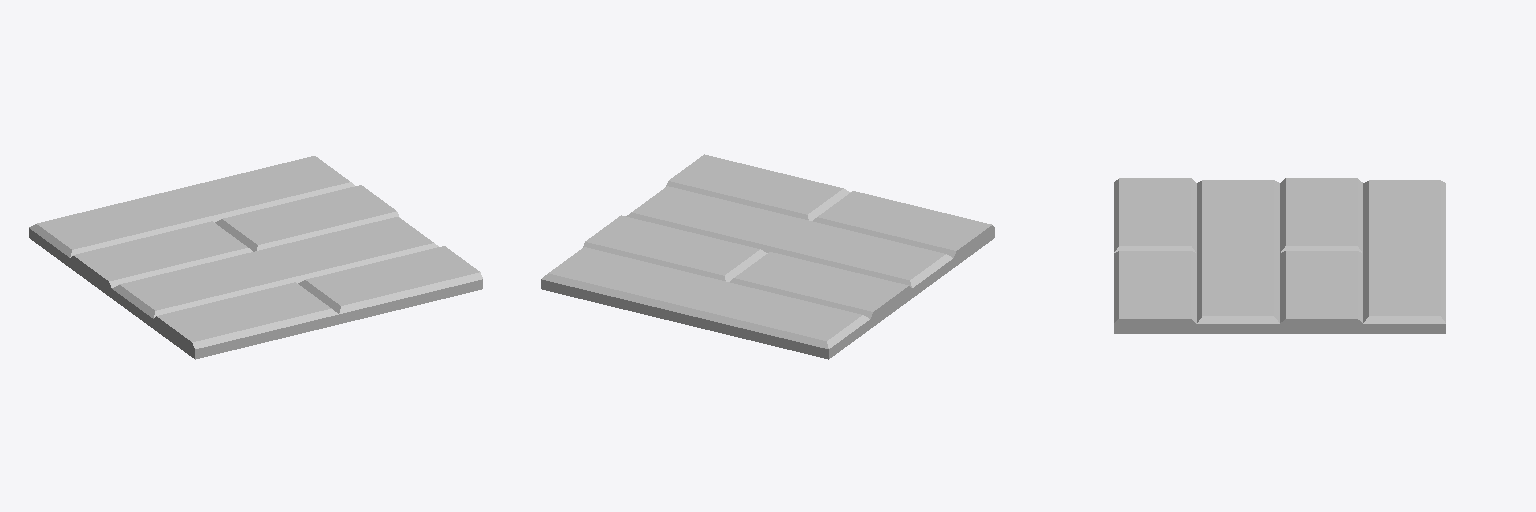
Rendered from floorDecoration_wood.obj.
The picture shows the model from 3 angles: view 1: azimuth 30°, elevation 25°; view 2: azimuth 150°, elevation 25°; view 3: azimuth 270°, elevation 25°; orthographic projection.
Visible parts, largest first — view 1: floorDecoration_wood_Cube.2485; view 2: floorDecoration_wood_Cube.2485; view 3: floorDecoration_wood_Cube.2485.
Part boxes in pixels (bbox=[...]): floorDecoration_wood_Cube.2485: bbox=[29, 156, 482, 359]; floorDecoration_wood_Cube.2485: bbox=[541, 154, 994, 359]; floorDecoration_wood_Cube.2485: bbox=[1114, 178, 1445, 333].
Size of the model in its own units: 2 by 0.1 by 2.